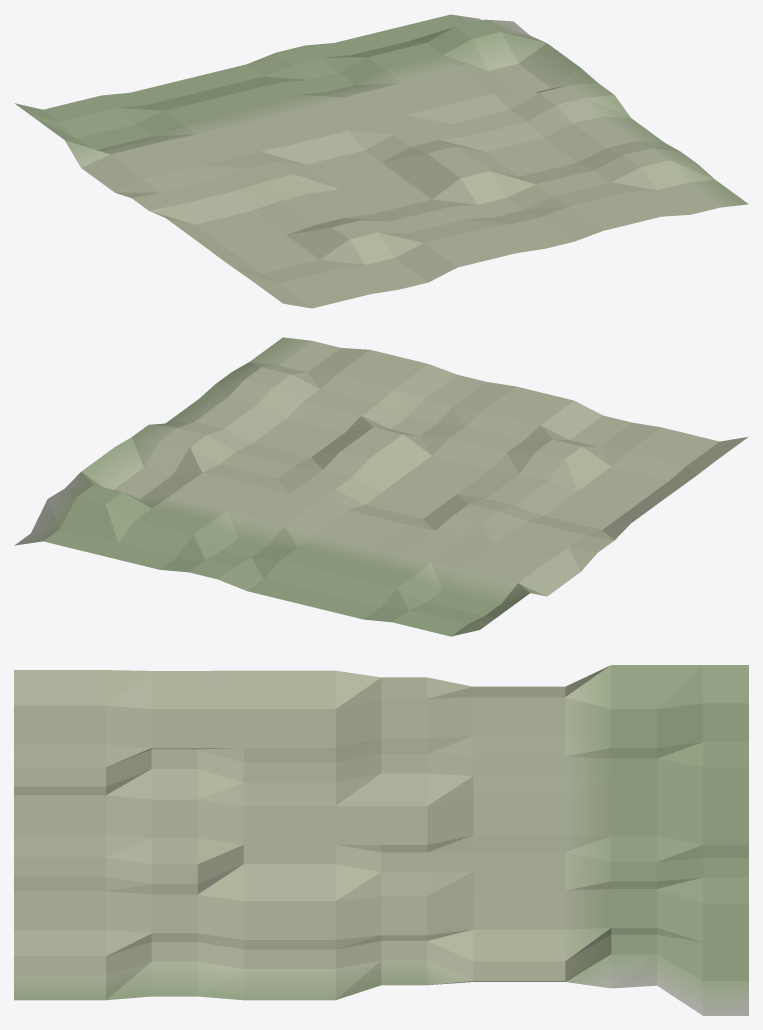
3 renders of one model, top to bottom at view 1: azimuth 30°, elevation 25°; view 2: azimuth 150°, elevation 25°; view 3: azimuth 270°, elevation 25°, orthographic. The views are drawn at different scales.
Size of the model in its own units: 32 by 2.03 by 32.
